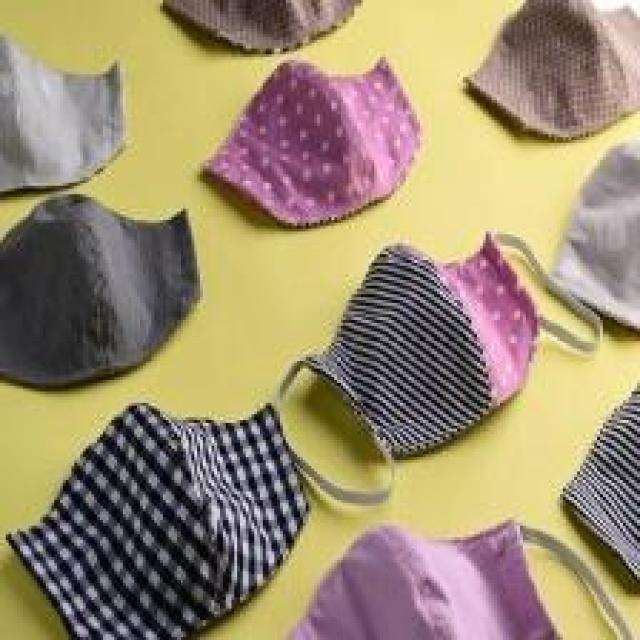Mask: (278, 226, 579, 491), (23, 415, 321, 624), (0, 199, 255, 389), (300, 514, 598, 640), (210, 78, 427, 205), (0, 10, 150, 186), (468, 0, 640, 146), (559, 140, 640, 336), (168, 0, 367, 60), (593, 364, 640, 578)
